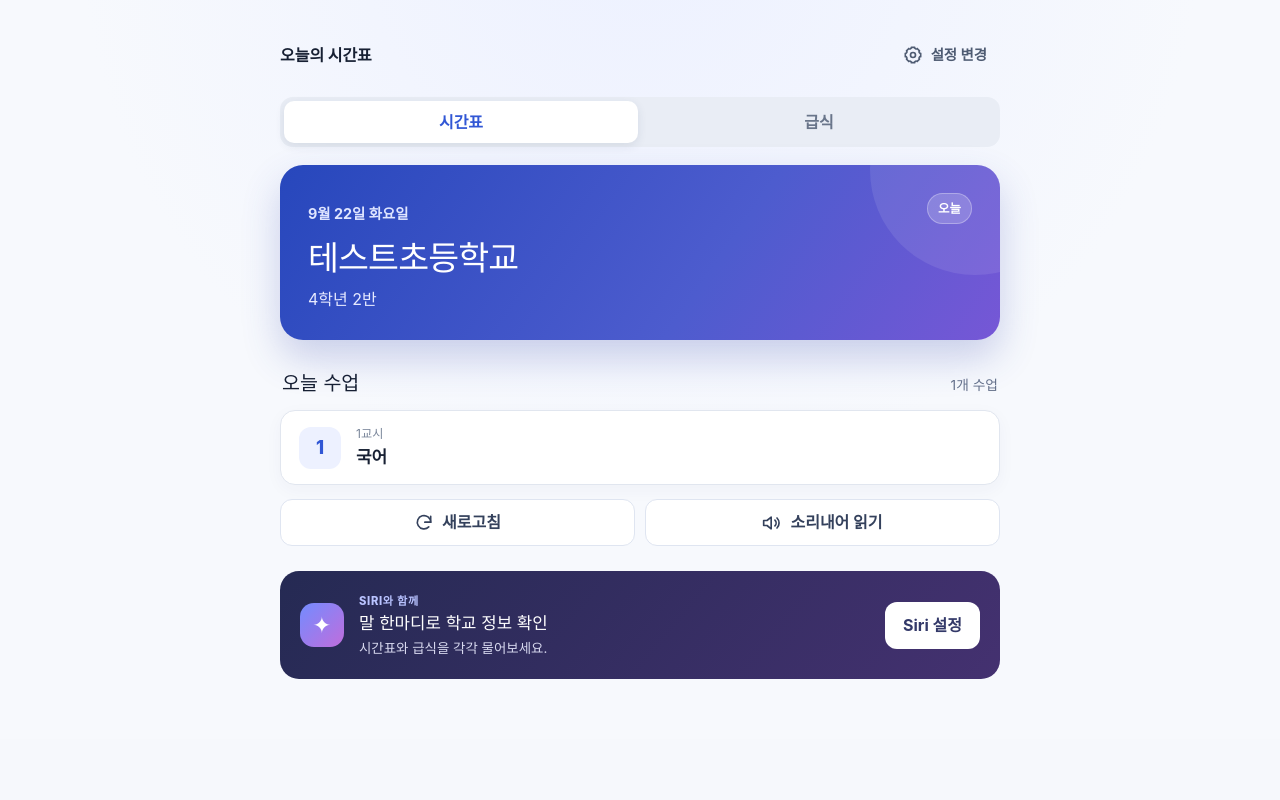
Test case: TimetableView › opens Siri instructions, builds the configured URL, and copies it
Expected: the text "국어" is shown, x1=356 y1=444 x2=387 y2=470
Click the button "Siri 설정" at (932, 625), box x1=885 y1=602 x2=980 y2=648
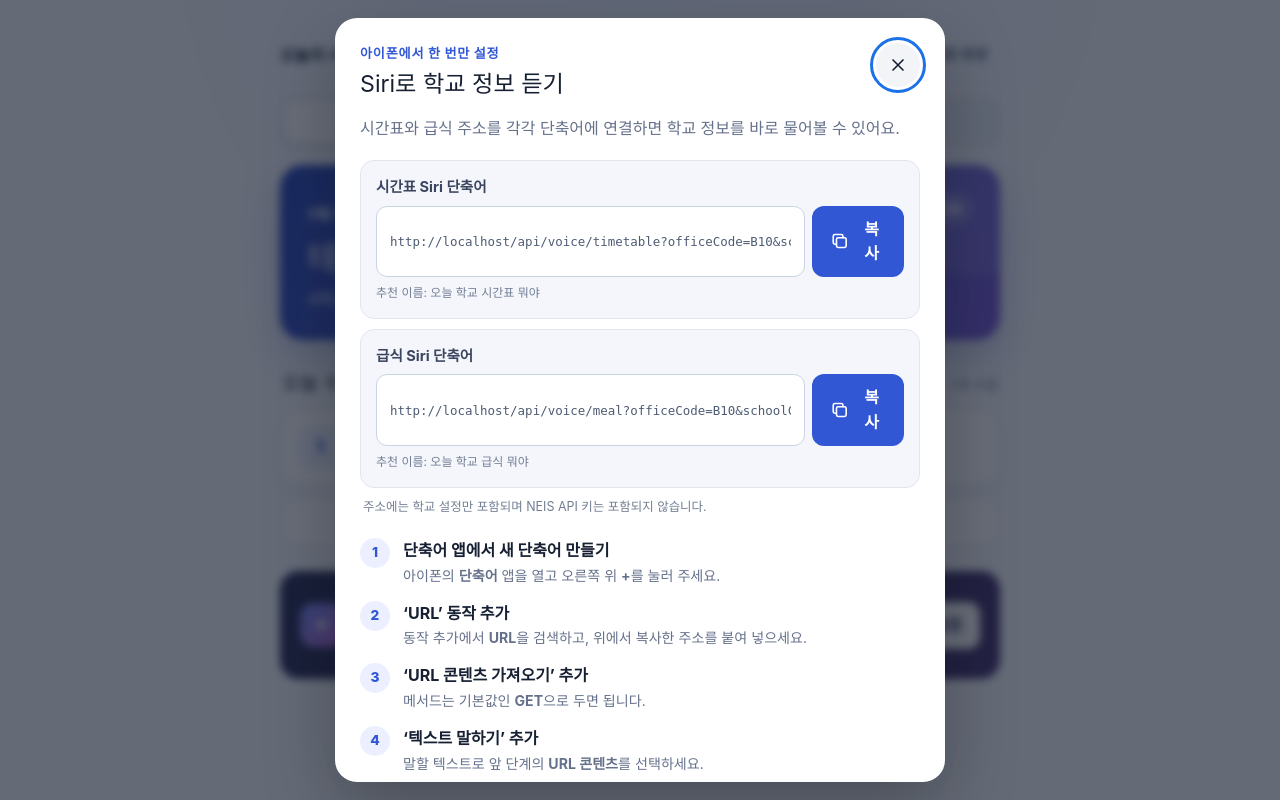
Result: the text "‘URL 콘텐츠 가져오기’ 추가" is shown at x1=403 y1=665 x2=588 y2=685
Result: the text "‘텍스트 말하기’ 추가" is shown at x1=403 y1=728 x2=538 y2=748
Click the button with aria-label "시간표 URL 복사" at (858, 242), box x1=812 y1=206 x2=904 y2=277
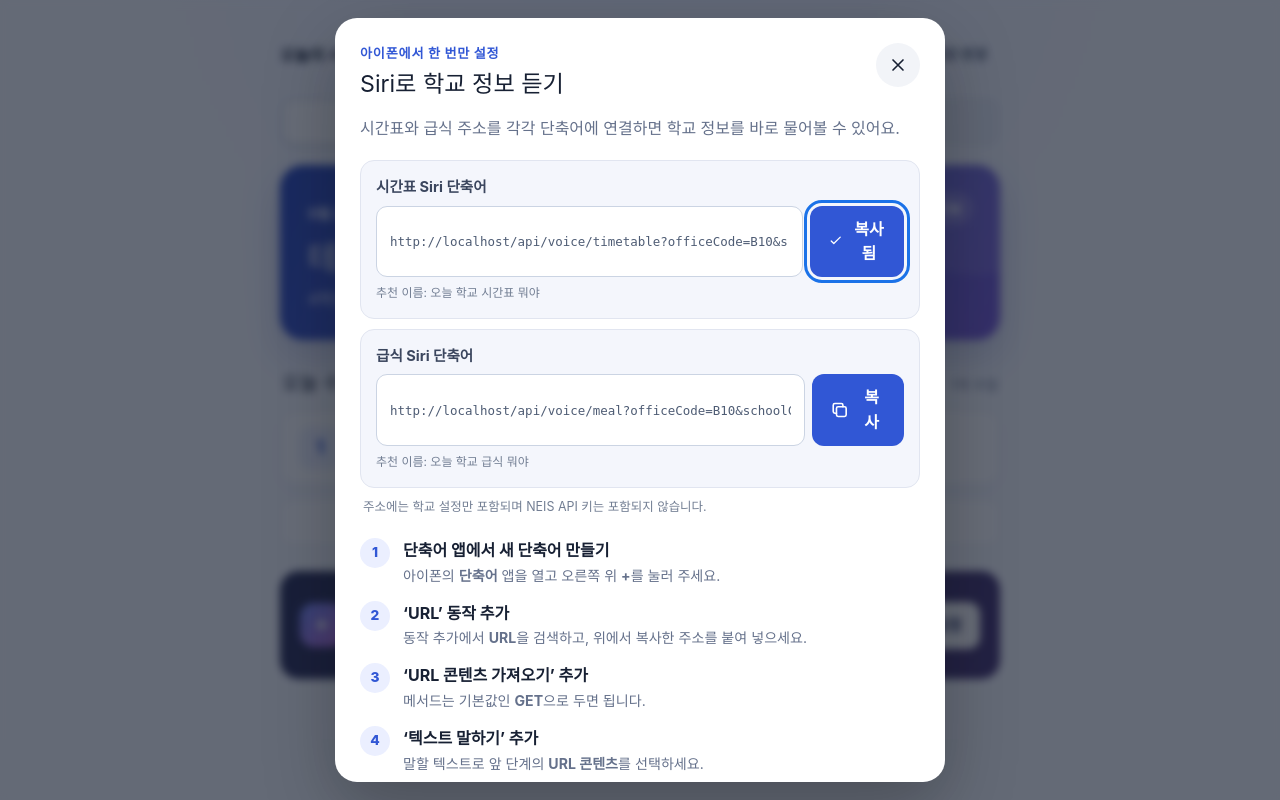
Result: the button with aria-label "시간표 URL 복사" reads "복사됨" at x1=810 y1=206 x2=904 y2=277
Press Escape
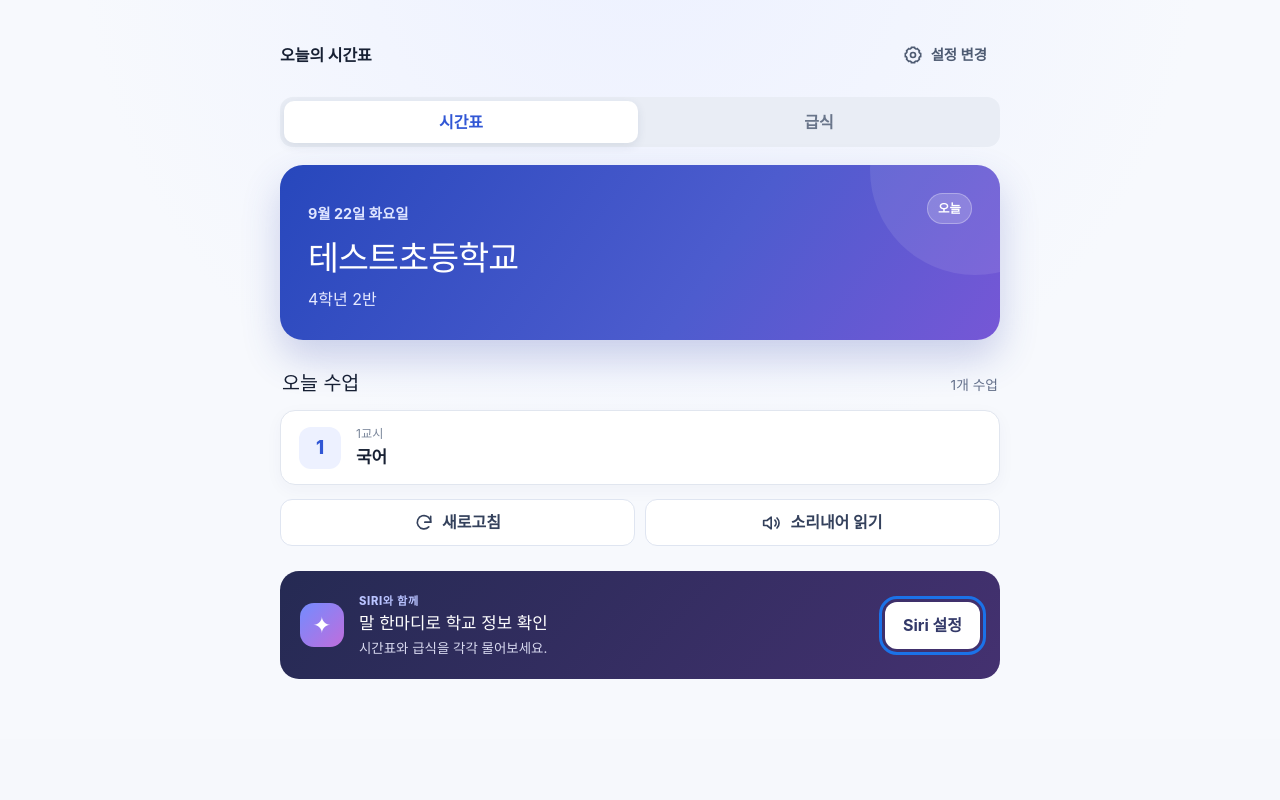
Result: the dialog is gone
